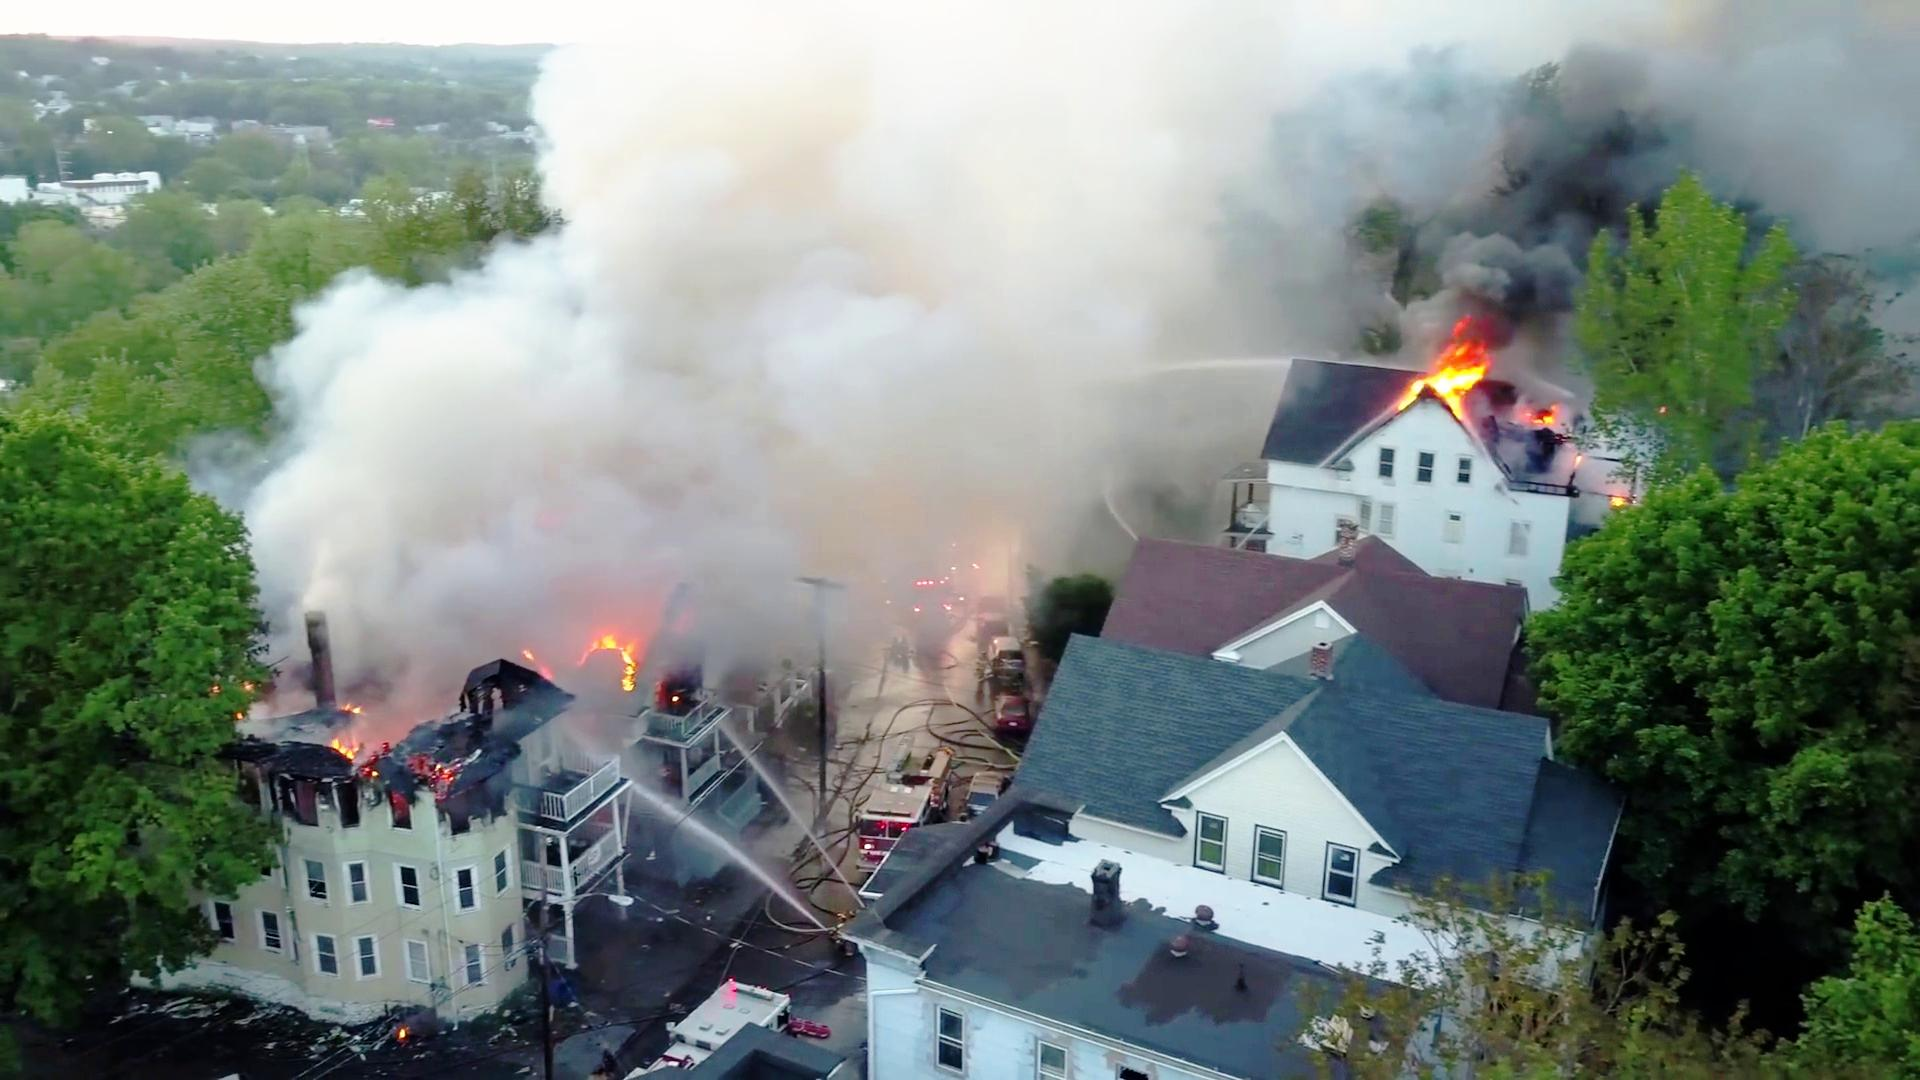fire: (1412, 316, 1497, 418)
smoke: (1228, 13, 1920, 348)
